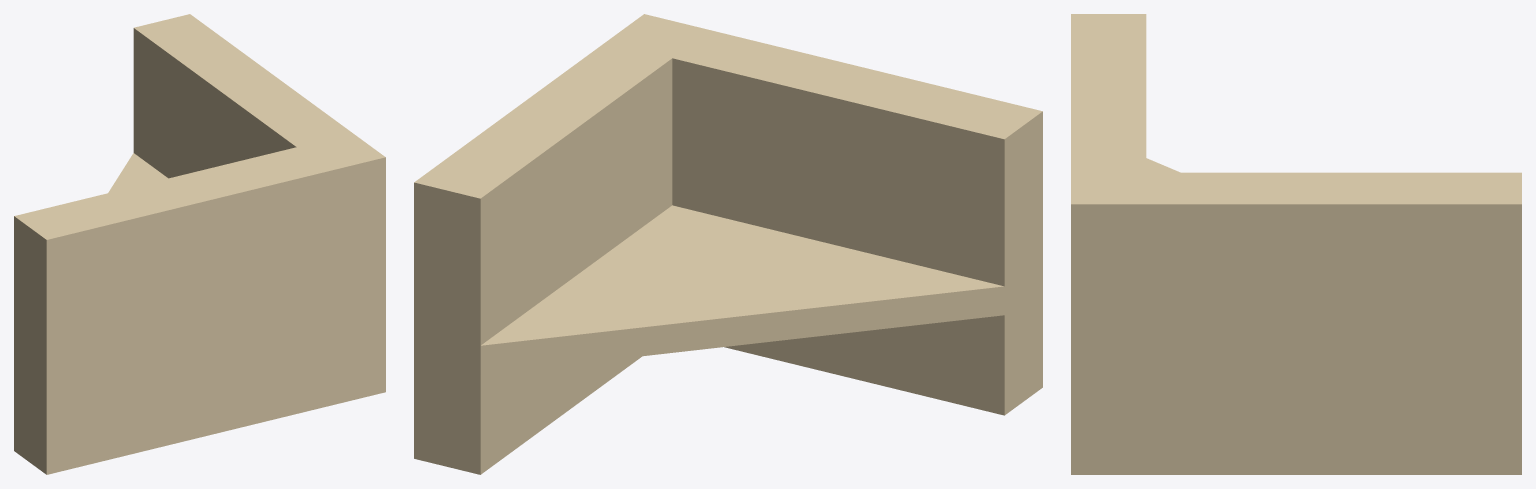
Rendered from FixedDesk.fbx.
3 views of the same model, side by side, from view 1: azimuth 30°, elevation 25°; view 2: azimuth 150°, elevation 25°; view 3: azimuth 270°, elevation 25° (orthographic). The views are drawn at different scales.
Parts seen in each view (by area): view 1: Desk; view 2: Desk; view 3: Desk.
Boxes of the visible parts, left/top/right/bottom form: Desk: left=14, top=14, right=385, bottom=474; Desk: left=414, top=14, right=1042, bottom=474; Desk: left=1071, top=14, right=1521, bottom=474.
Size of the model in its own units: 443 by 293 by 443.
